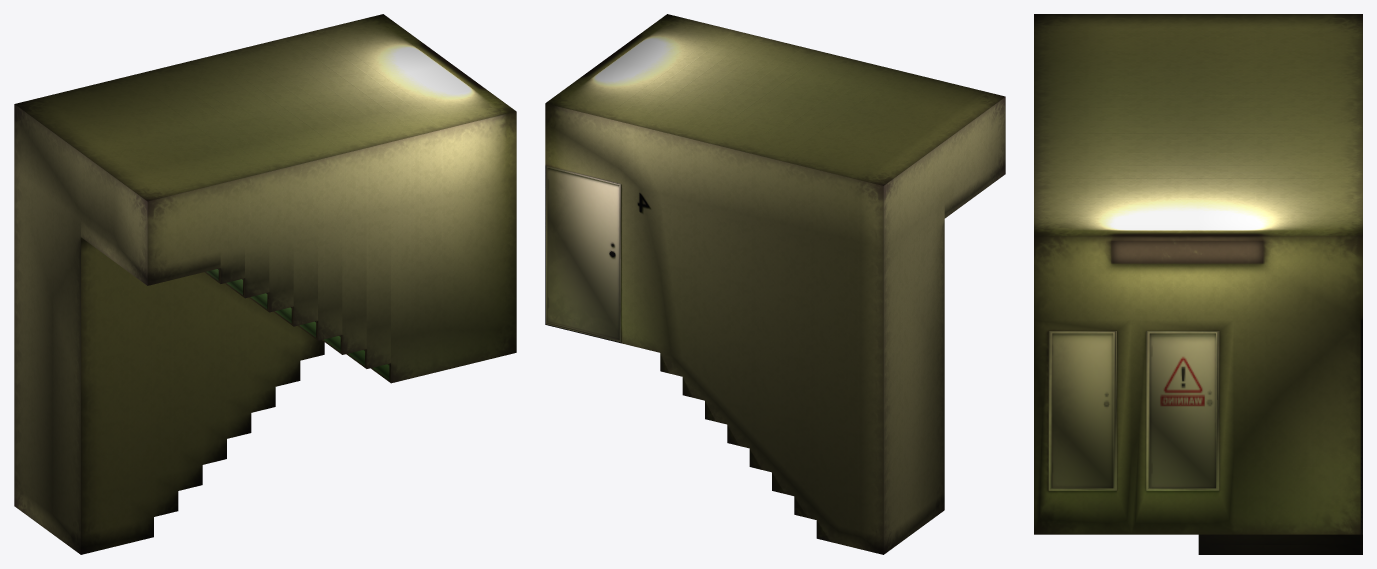
The model's file is EmergencyStairs.fbx.
3 views of the same model, side by side, from view 1: azimuth 30°, elevation 25°; view 2: azimuth 150°, elevation 25°; view 3: azimuth 270°, elevation 25° (orthographic). The views are drawn at different scales.
Parts seen in each view (by area): view 1: Cube.001_0; view 2: Cube.001_0; view 3: Cube.001_0.
Part boxes in pixels (left/top/right/bottom): Cube.001_0: left=14, top=14, right=516, bottom=554; Cube.001_0: left=545, top=14, right=1005, bottom=554; Cube.001_0: left=1034, top=14, right=1362, bottom=554.
Bounding box in the file's own units: 960 × 1002 × 600.
Materials: 2 (1 with a texture image).
